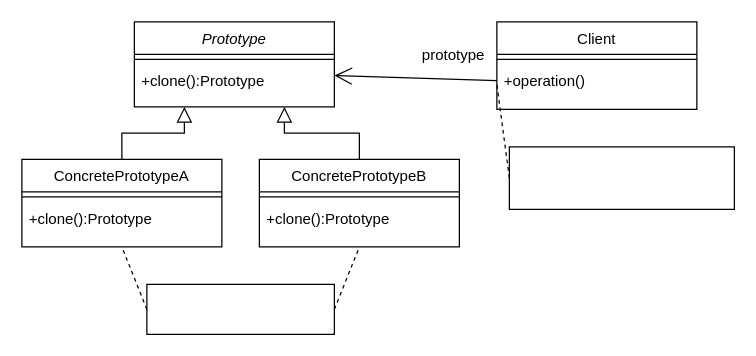
Image size: 756x356. Some labels were removed from this diagram. Here are the shapes that lost their labels. From the top down, the centre of each, then its label:
At point (621, 177): "p = prototype.clone()".
At point (240, 308): "return copy of self".
